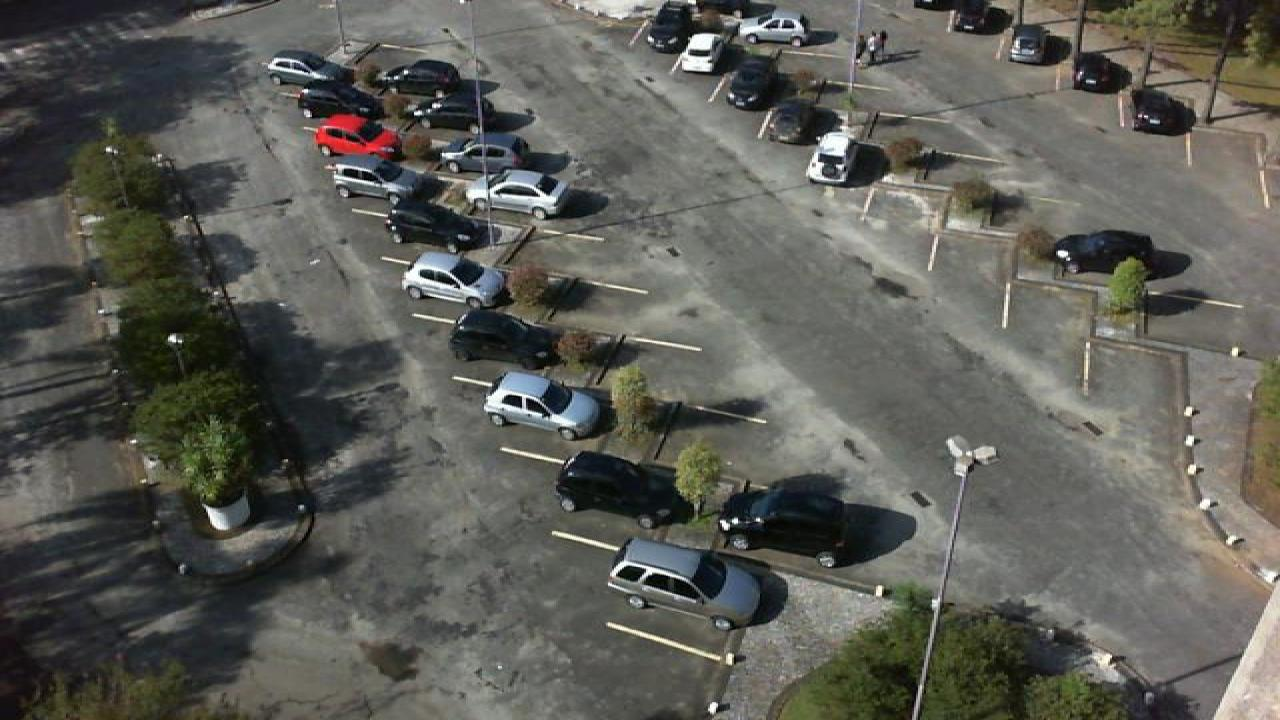Car: (606, 537, 764, 630), (718, 490, 850, 569), (554, 450, 676, 528), (482, 371, 604, 441), (448, 309, 558, 368), (400, 251, 506, 310), (382, 196, 490, 253), (466, 169, 574, 219), (1050, 228, 1158, 276), (426, 132, 526, 176), (326, 160, 418, 204), (314, 114, 402, 160), (294, 81, 382, 123), (262, 48, 350, 86), (406, 93, 494, 130), (376, 57, 464, 94), (724, 56, 780, 110), (642, 0, 696, 53), (762, 100, 824, 146), (806, 130, 856, 185), (736, 12, 810, 46), (1132, 88, 1184, 132), (674, 30, 724, 74), (1070, 53, 1120, 93), (1006, 23, 1050, 64), (954, 0, 1000, 34)
